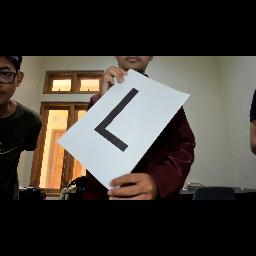l: (93, 84, 145, 156)
